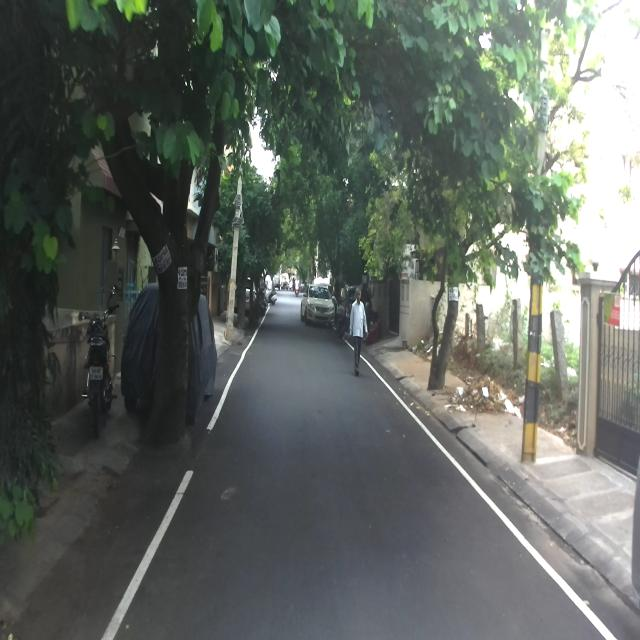motorcycle ahead at: (76, 284, 125, 426)
person ahead at: (349, 285, 370, 373)
tree ahead at: (114, 125, 224, 464)
